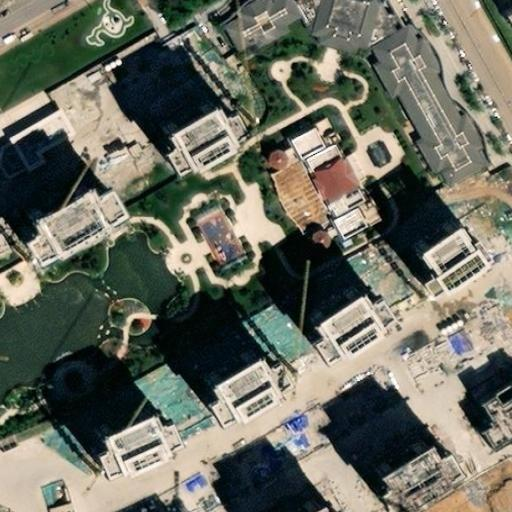building: (252, 114, 381, 258), (13, 199, 114, 273), (310, 316, 391, 388), (204, 381, 286, 449), (91, 438, 176, 503), (153, 119, 233, 187), (0, 126, 78, 193), (415, 245, 486, 314), (373, 471, 456, 512), (472, 374, 512, 450), (0, 471, 50, 512)
